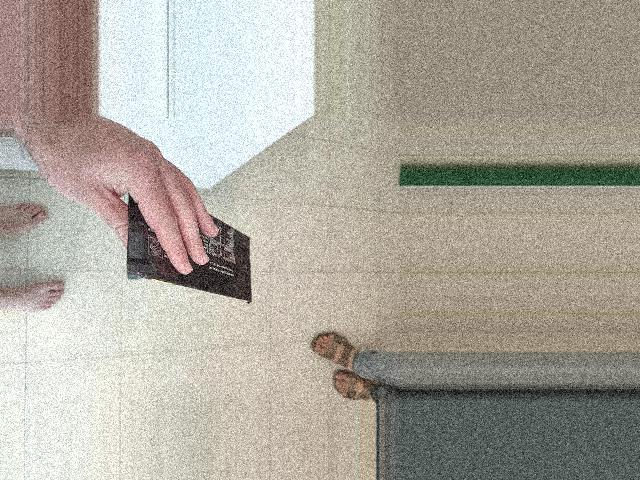chocolate: (178, 261, 303, 410)
